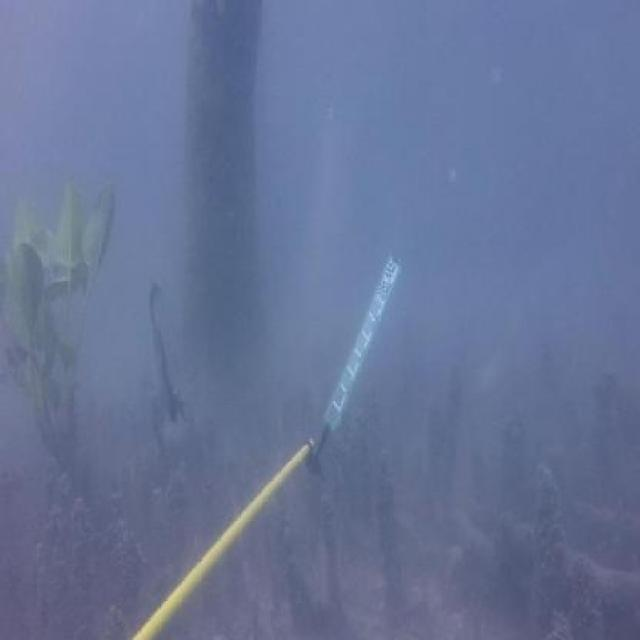acanthopagrus_palmaris: (146, 279, 191, 426)
